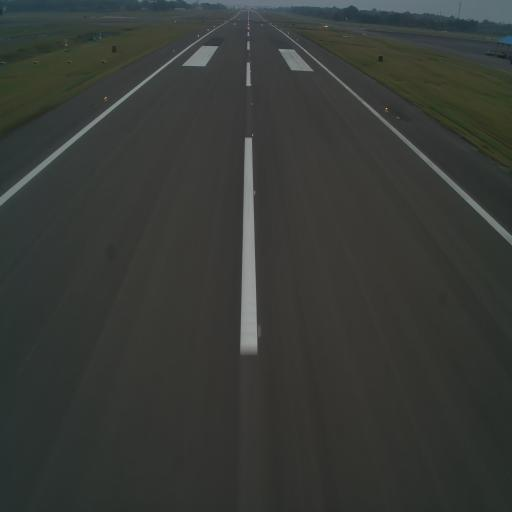off: (319, 56, 324, 61)
on: (255, 323, 262, 340), (251, 186, 258, 200), (102, 92, 110, 104), (249, 100, 255, 109), (250, 130, 254, 140), (384, 105, 389, 113), (249, 81, 254, 87), (172, 48, 176, 54), (249, 60, 251, 65), (250, 70, 252, 73), (249, 53, 251, 56)
